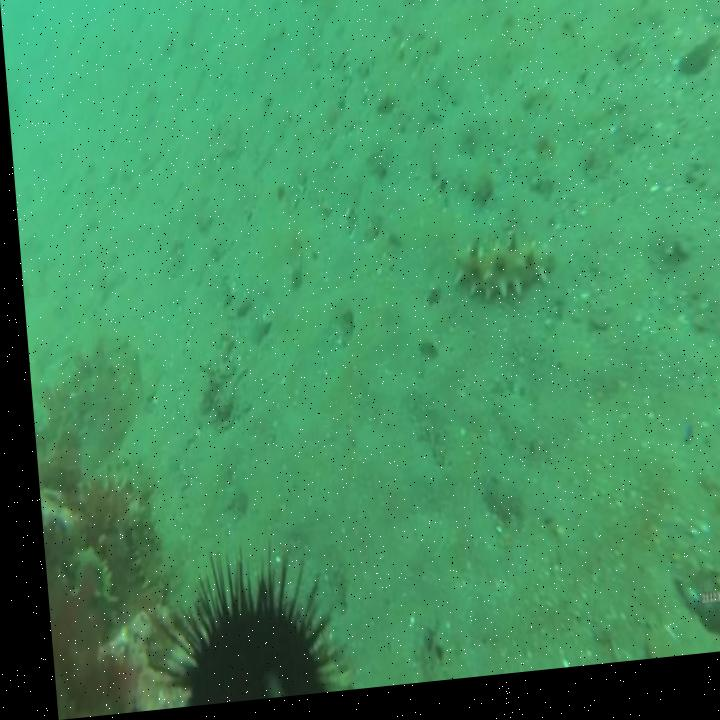echinus: (131, 543, 342, 712)
holothurian: (446, 239, 556, 319), (61, 543, 115, 640), (112, 495, 158, 591)
